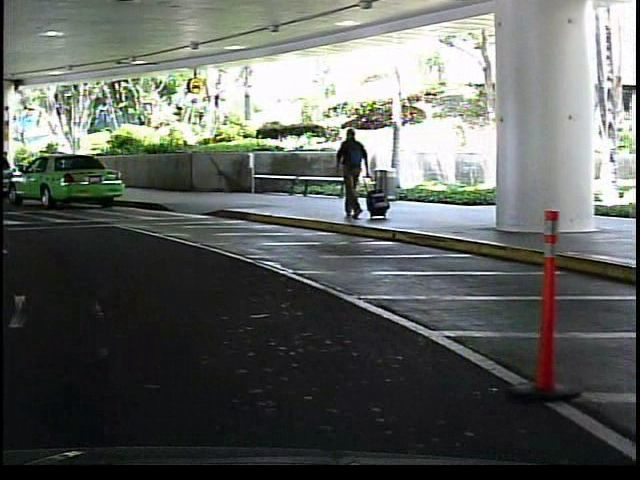person: (327, 120, 371, 229)
